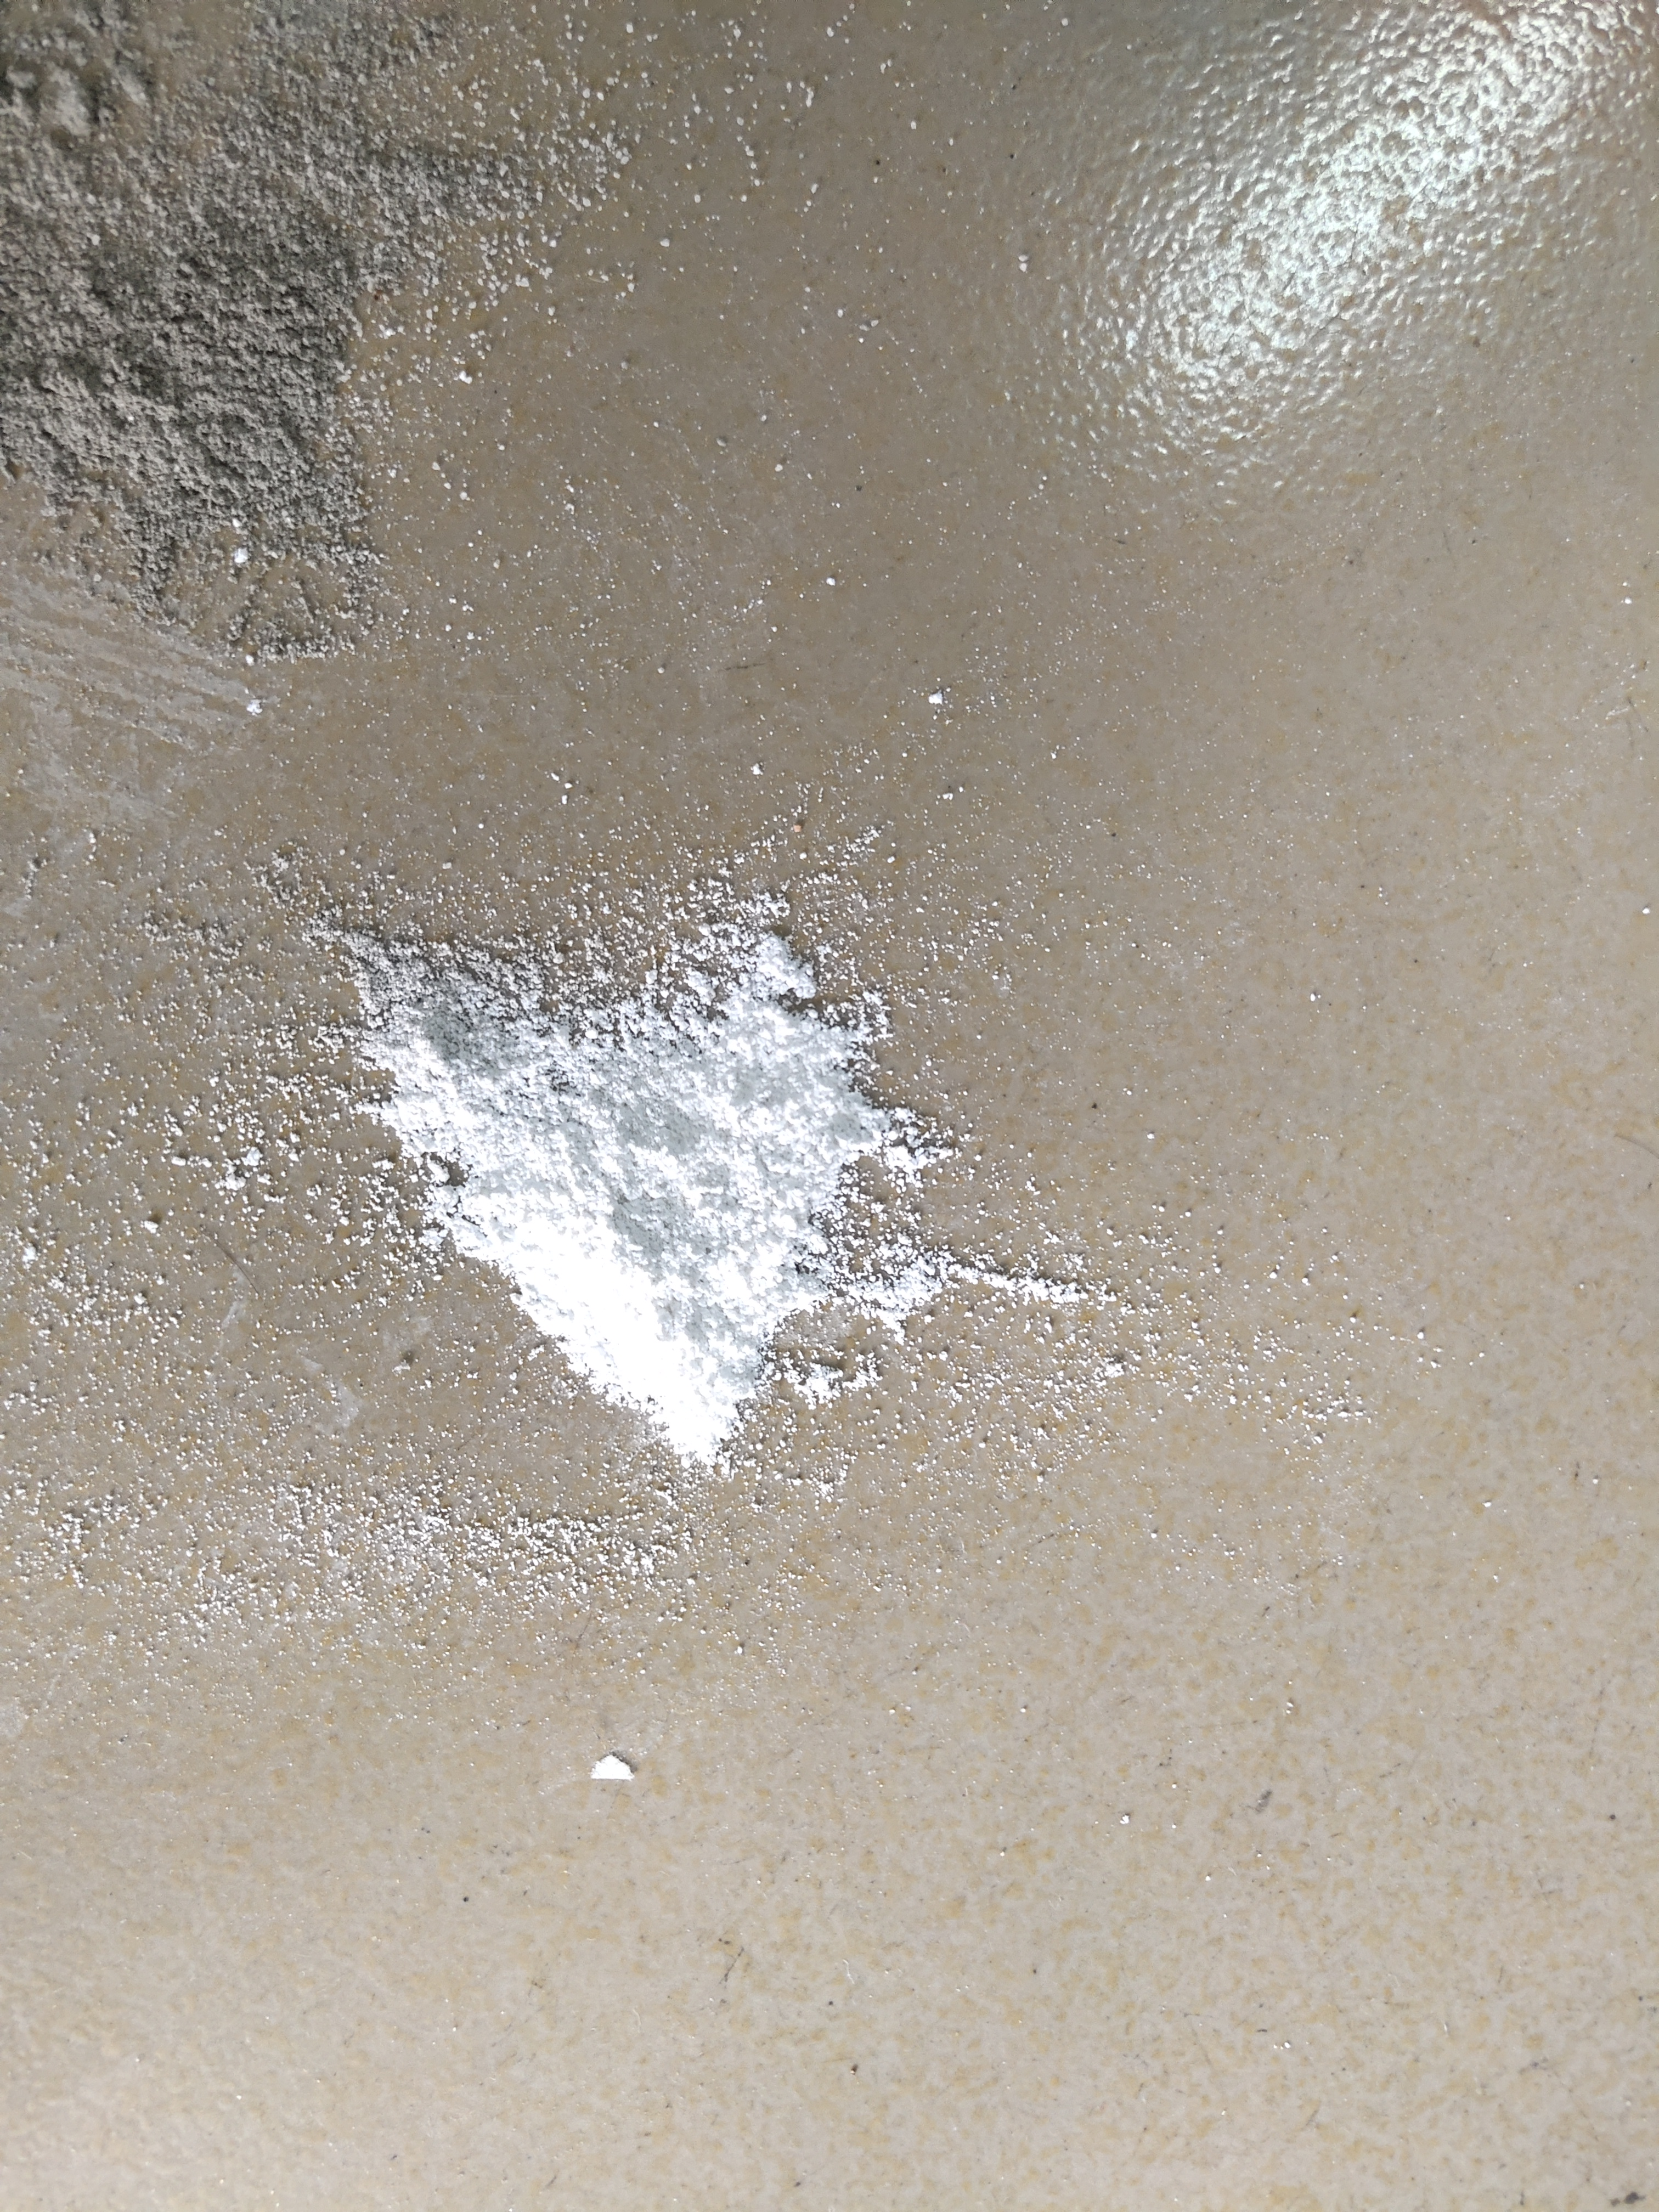ash pile: (308, 871, 1117, 1479), (2, 0, 505, 662)
reflection: (1063, 5, 1659, 462)
